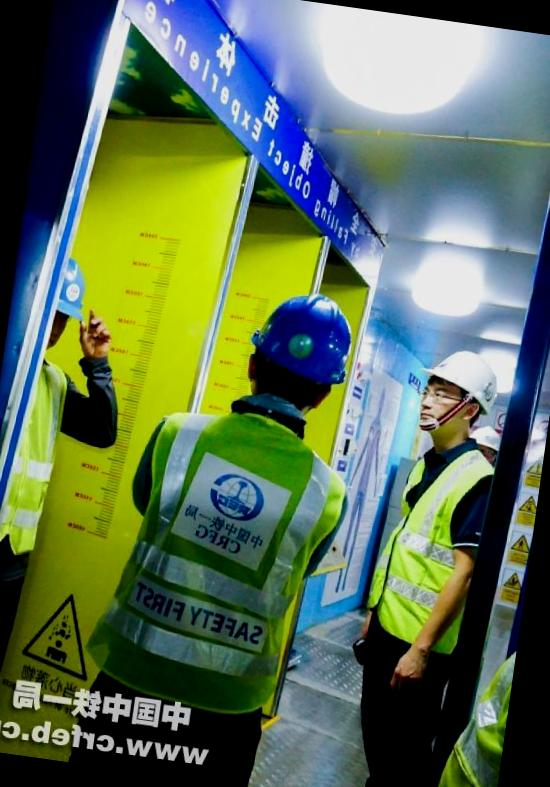helmet: (235, 277, 362, 385), (407, 338, 512, 406)
person: (71, 267, 373, 787), (333, 338, 520, 787)
